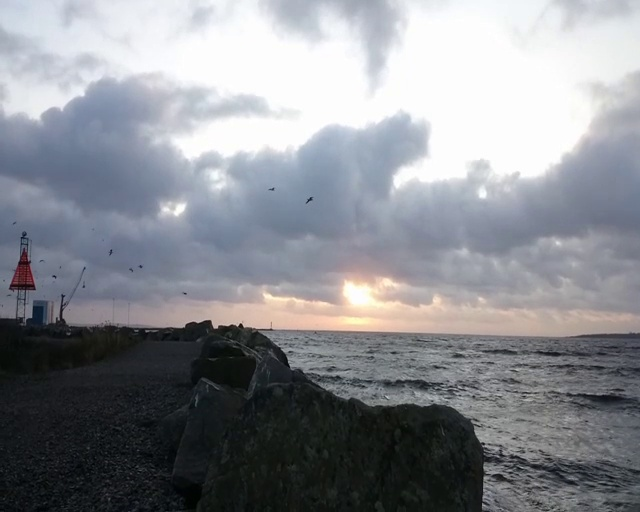BIRD: (52, 264, 87, 325)
